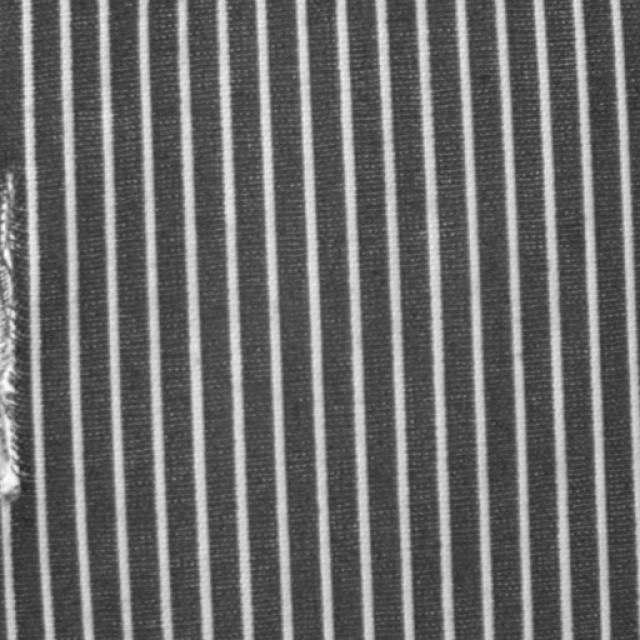Hole-Defect: (0, 172, 20, 500)
